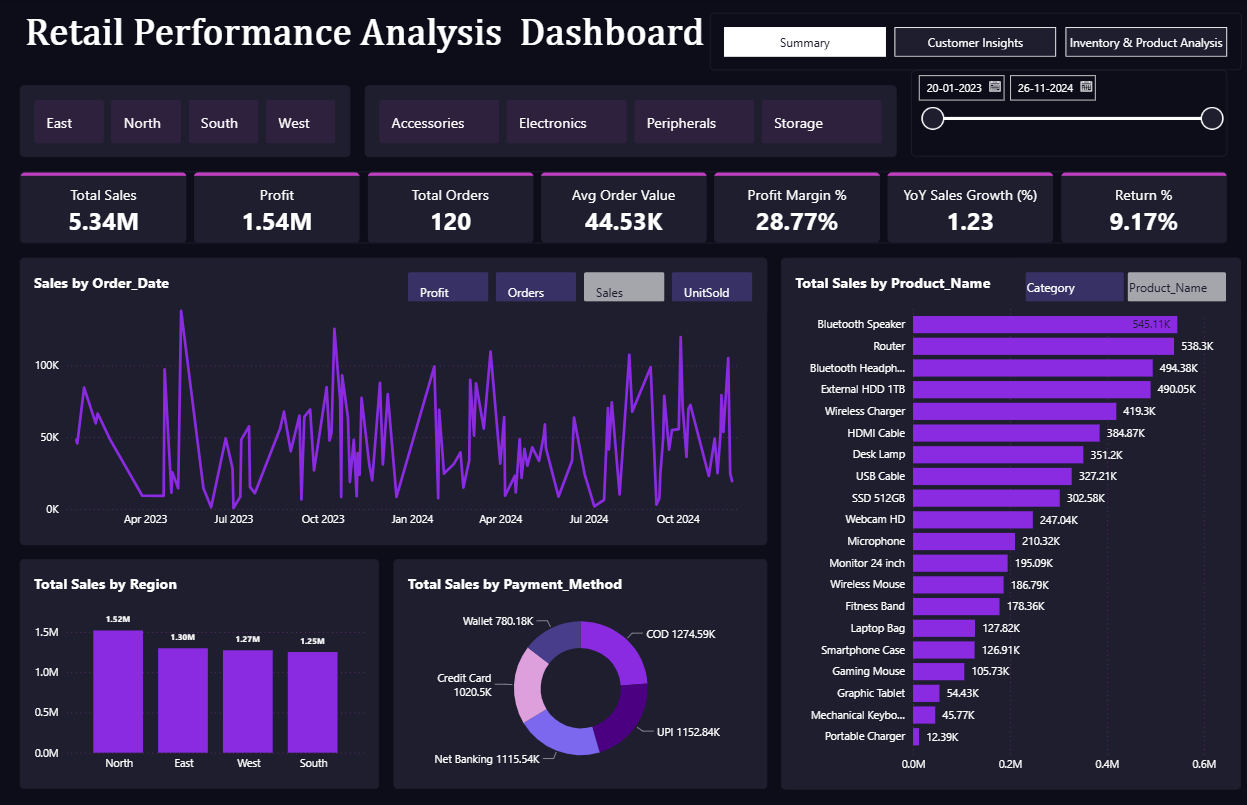

The dashboard page shown, as its layout file describes it:
{"tool":"powerbi","page":{"name":"Summary","canvas":[1400,900],"ordinal":0},"visuals":[{"type":"cardVisual","fields":{"Data":["Measures (2).Total Sales","Measures (2).Profit","Measures (2).Total Orders","Measures (2).Avg Order Value","Measures (2).Profit Margin %","Measures (2).YoY Sales Growth (%)","Measures (2).Return %"]},"box":[32,192,1344,80],"z":0},{"type":"lineChart","fields":{"Y":["Measures (2).Total Sales"],"Category":["orders.Order_Date"]},"box":[32,288,832,320],"z":1000},{"type":"clusteredColumnChart","title":"Total Sales by Region","fields":{"Y":["Measures (2).Total Sales"],"Category":["regions.Region_Name"]},"box":[32,624,400,256],"z":2000},{"type":"barChart","fields":{"Category":["products.Product_Name"],"Y":["Measures (2).Total Sales"]},"box":[880,288,512,592],"z":3000},{"type":"donutChart","fields":{"Y":["Measures (2).Total Sales"],"Category":["orders.Payment_Method"]},"box":[448,624,416,256],"z":4000},{"type":"advancedSlicerVisual","fields":{"Values":["products.Category"]},"box":[416,96,592,80],"z":5000},{"type":"slicer","fields":{"Values":["orders.Order_Date"]},"box":[1024,80,352,96],"z":6000},{"type":"advancedSlicerVisual","fields":{"Values":["regions.Region_Name"]},"box":[32,96,368,80],"z":7000},{"type":"pageNavigator","box":[800,16,592,64],"z":8000},{"type":"textbox","box":[32,16,768,80],"z":9000},{"type":"advancedSlicerVisual","fields":{"Values":["Select Measures.Select Measures"]},"box":[448,288,416,64],"z":10000},{"type":"advancedSlicerVisual","fields":{"Values":["List.List"]},"box":[1136,288,256,64],"z":11000}]}

Visuals, with their boxes in screenshot pixels (x1, y1, x2, y2), scaled from the page's 1400x900 canvas onto the 1247x805 screenshot:
cardVisual - Measures (2).Total Sales x Measures (2).Profit: crop(29, 172, 1226, 243)
lineChart - Measures (2).Total Sales x orders.Order_Date: crop(29, 258, 770, 544)
"Total Sales by Region" clusteredColumnChart: crop(29, 558, 385, 787)
barChart - products.Product_Name x Measures (2).Total Sales: crop(784, 258, 1240, 787)
donutChart - Measures (2).Total Sales x orders.Payment_Method: crop(399, 558, 770, 787)
advancedSlicerVisual - products.Category: crop(371, 86, 898, 157)
slicer - orders.Order_Date: crop(912, 72, 1226, 157)
advancedSlicerVisual - regions.Region_Name: crop(29, 86, 356, 157)
pageNavigator: crop(713, 14, 1240, 72)
textbox: crop(29, 14, 713, 86)
advancedSlicerVisual - Select Measures.Select Measures: crop(399, 258, 770, 315)
advancedSlicerVisual - List.List: crop(1012, 258, 1240, 315)
